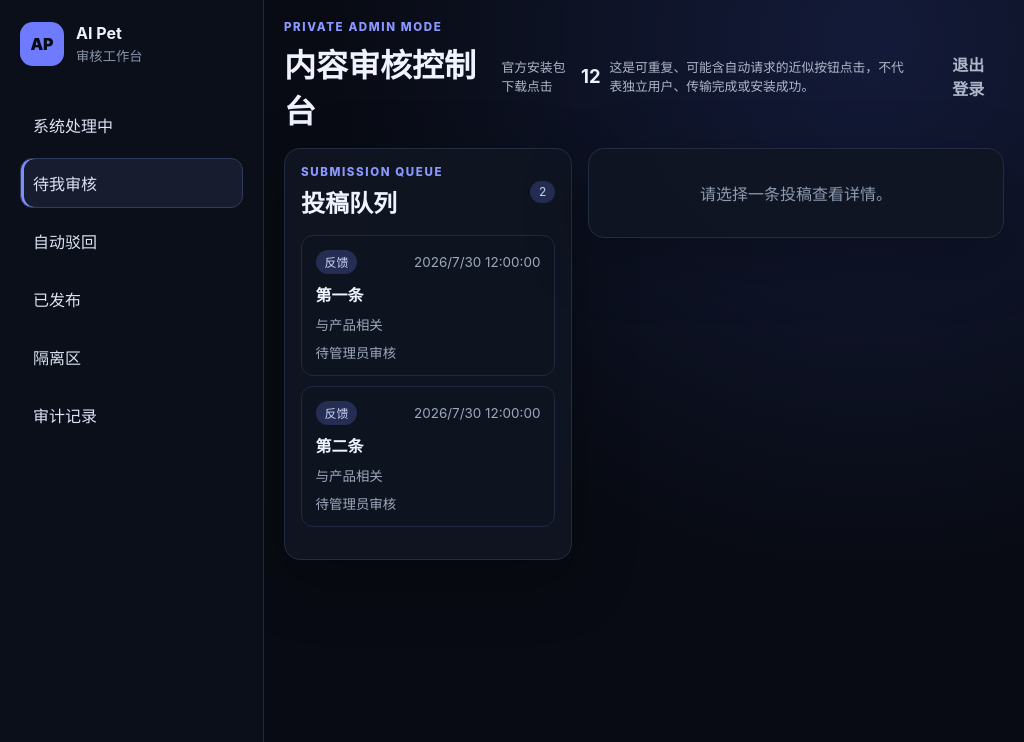
Test: 管理员审核工作台 › 较旧的详情响应不能覆盖后来选择的投稿
This screenshot has width=1024, height=742.
Click the text "第一条": click(340, 295) [316,285,364,305]
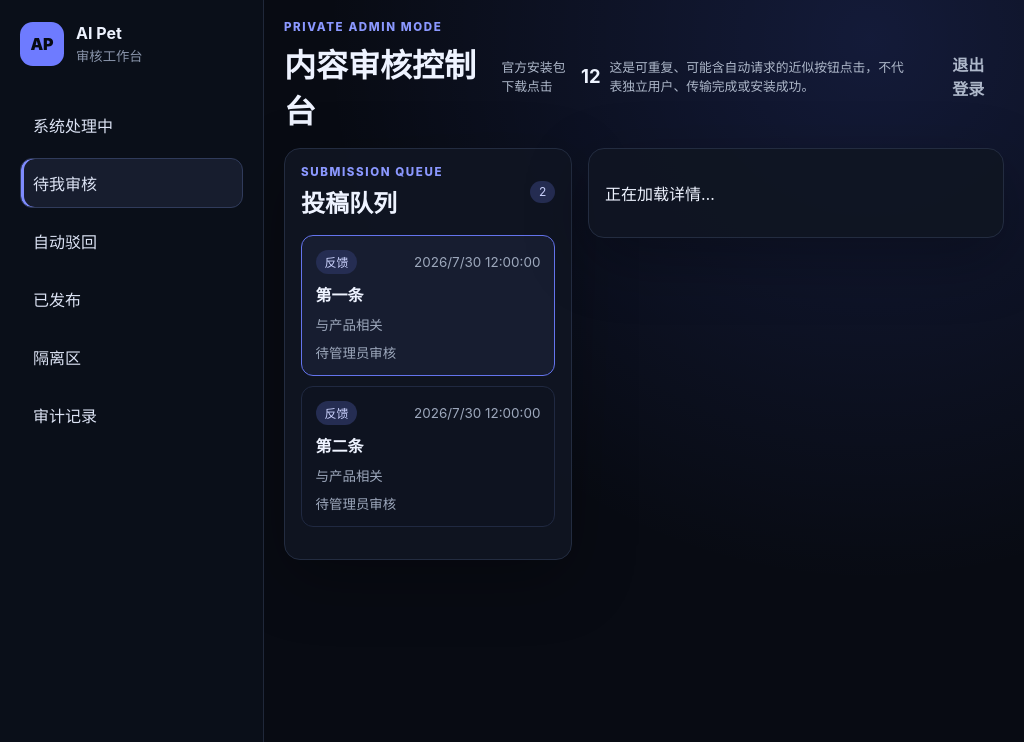
Click the text "第二条": click(340, 446) [316,436,364,456]
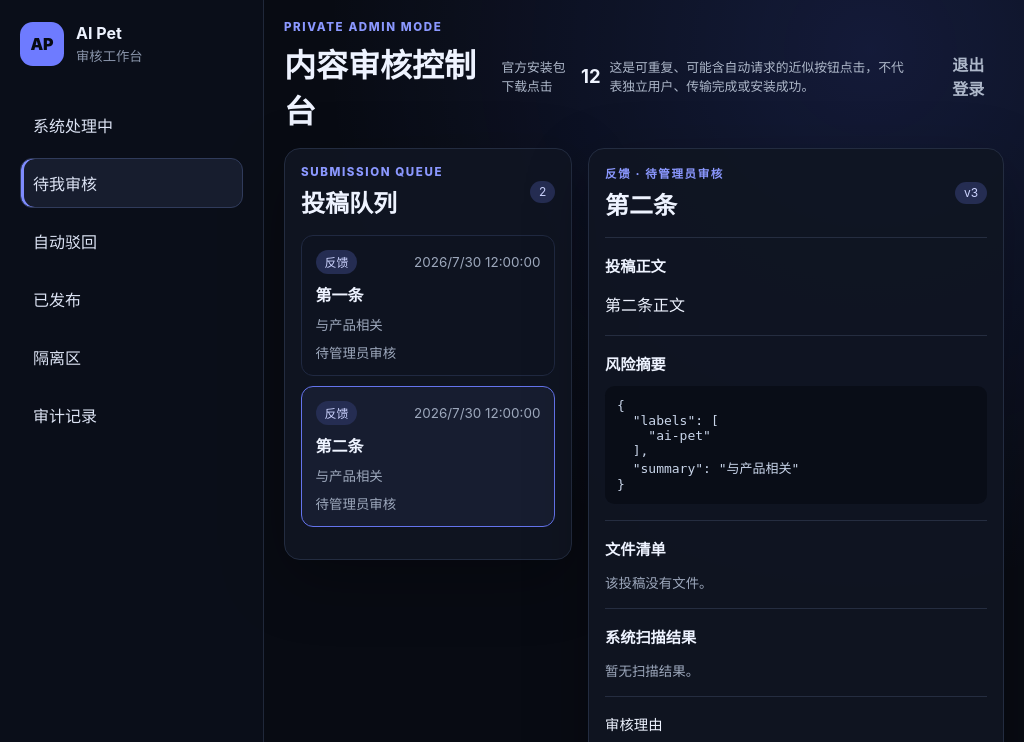
Expected: the text "第二条正文" is shown, [605,295,685,315]
